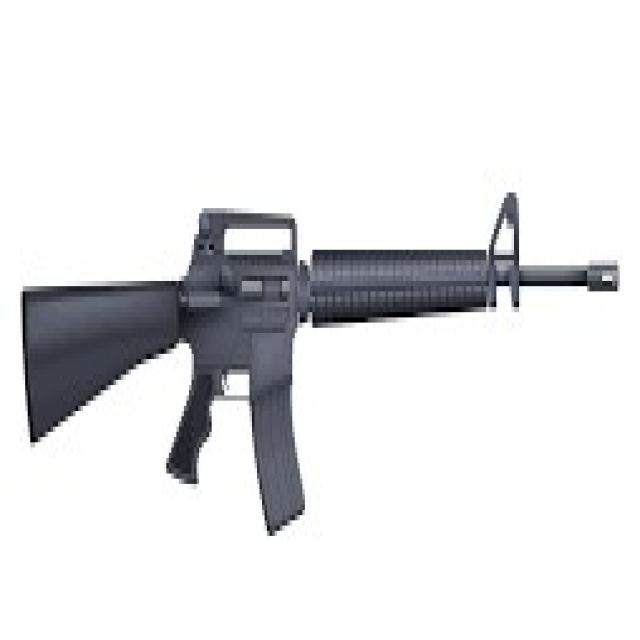rifle: (18, 176, 623, 546)
